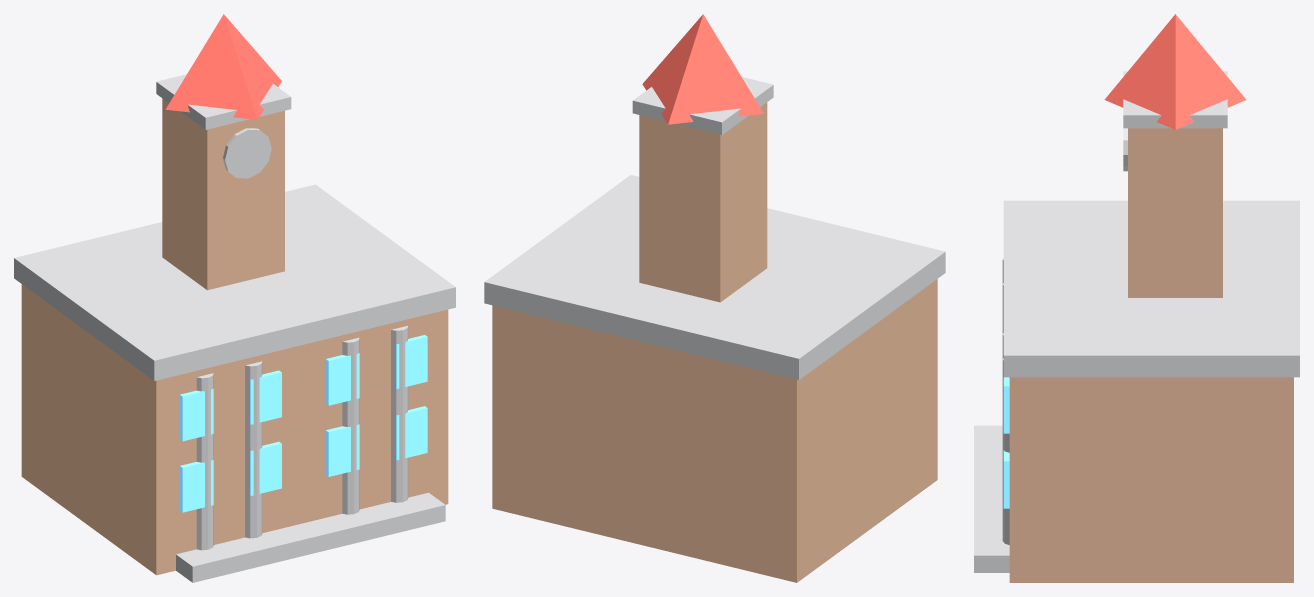
Rendered from university.glb.
The picture shows the model from 3 angles, left to right: view 1: azimuth 30°, elevation 25°; view 2: azimuth 150°, elevation 25°; view 3: azimuth 270°, elevation 25°; orthographic projection. The views are drawn at different scales.
Parts seen in each view (by area): view 1: university; view 2: university; view 3: university.
Part boxes in pixels (left/top/right/bottom): university: left=14, top=14, right=455, bottom=582; university: left=484, top=14, right=945, bottom=582; university: left=974, top=14, right=1299, bottom=582.
Size of the model in its own units: 1.55 by 2.3 by 1.38.
